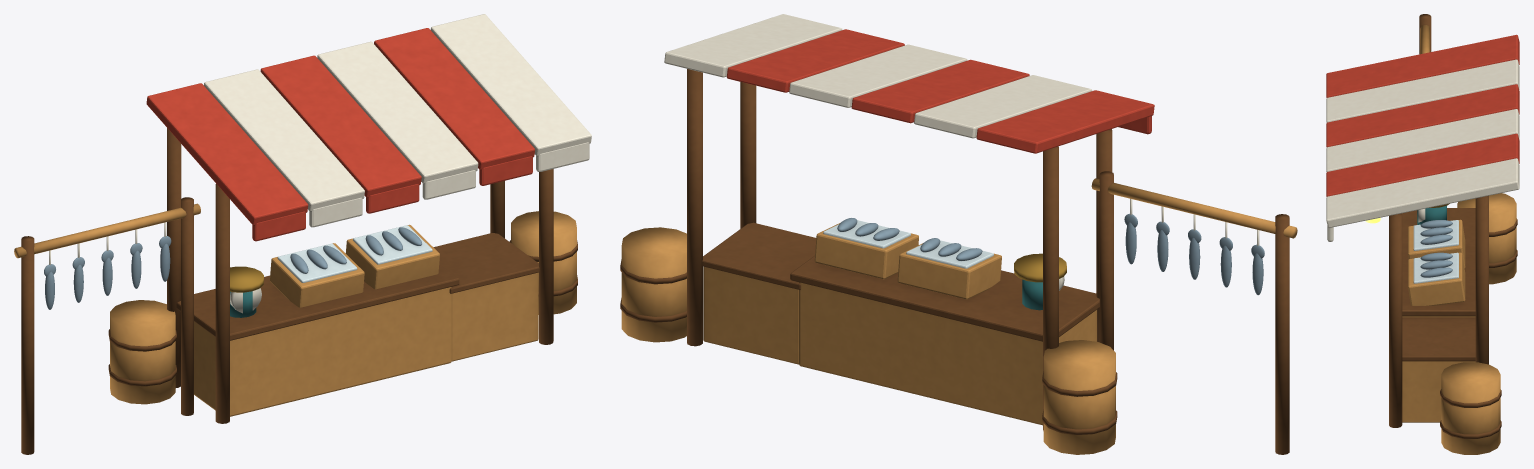
File: market_stall_v2.glb
3 views of the same model, side by side, from view 1: azimuth 30°, elevation 25°; view 2: azimuth 150°, elevation 25°; view 3: azimuth 270°, elevation 25° (orthographic). The views are drawn at different scales.
Visible parts, largest first — view 1: Mkt_CounterMain, Mkt_Awning_0, Mkt_Awning_3, Mkt_Awning_1, Mkt_Awning_5, Mkt_Awning_2, Mkt_Awning_4, Mkt_TransNook, Mkt_Barrel_0, Mkt_CounterTop, Mkt_TransTop, Mkt_PostF_-1.46 (+18 smaller); view 2: Mkt_CounterMain, Mkt_CounterTop, Mkt_TransNook, Mkt_Barrel_0, Mkt_Barrel_1, Mkt_Awning_0, Mkt_Awning_5, Mkt_Awning_1, Mkt_Awning_2, Mkt_Awning_3, Mkt_Awning_4, Mkt_TransTop (+12 smaller); view 3: Mkt_Awning_5, Mkt_Awning_1, Mkt_Awning_0, Mkt_Awning_3, Mkt_Awning_4, Mkt_Awning_2, Mkt_Barrel_1, Mkt_TransTop, Mkt_CounterTop, Mkt_PostF_1.46, Mkt_TransNook, Mkt_Barrel_0 (+16 smaller).
Part boxes in pixels (x1,y1,x2,y2): Mkt_CounterMain: (194, 287, 451, 416); Mkt_Awning_0: (146, 83, 308, 225); Mkt_Awning_3: (317, 41, 478, 183); Mkt_Awning_1: (203, 69, 364, 211); Mkt_Awning_5: (430, 14, 591, 156); Mkt_Awning_2: (260, 55, 421, 197); Mkt_Awning_4: (374, 28, 534, 169); Mkt_TransNook: (451, 272, 538, 361); Mkt_Barrel_0: (110, 300, 175, 404); Mkt_CounterTop: (176, 264, 459, 340); Mkt_TransTop: (433, 233, 539, 293); Mkt_PostF_-1.46: (215, 184, 229, 423); Mkt_CounterMain: (799, 282, 1096, 425); Mkt_CounterTop: (790, 255, 1099, 341); Mkt_TransNook: (703, 266, 798, 364); Mkt_Barrel_0: (1043, 340, 1115, 454); Mkt_Barrel_1: (621, 227, 686, 342); Mkt_Awning_0: (976, 90, 1154, 153); Mkt_Awning_5: (664, 14, 842, 77); Mkt_Awning_1: (914, 75, 1092, 138); Mkt_Awning_2: (851, 59, 1029, 123); Mkt_Awning_3: (789, 44, 967, 107); Mkt_Awning_4: (727, 29, 904, 92); Mkt_TransTop: (702, 222, 816, 289); Mkt_Awning_5: (1326, 158, 1519, 227); Mkt_Awning_1: (1326, 59, 1519, 122); Mkt_Awning_0: (1326, 34, 1519, 97); Mkt_Awning_3: (1326, 109, 1519, 171); Mkt_Awning_4: (1326, 133, 1519, 196); Mkt_Awning_2: (1326, 84, 1519, 147); Mkt_Barrel_1: (1441, 362, 1500, 454); Mkt_TransTop: (1402, 317, 1475, 361); Mkt_CounterTop: (1402, 208, 1475, 316); Mkt_PostF_1.46: (1389, 213, 1402, 427); Mkt_TransNook: (1402, 361, 1475, 422); Mkt_Barrel_0: (1457, 193, 1516, 284).
Size of the model in its own units: 5.25 by 2.39 by 1.69.
Materials: 3 (1 with a texture image).
